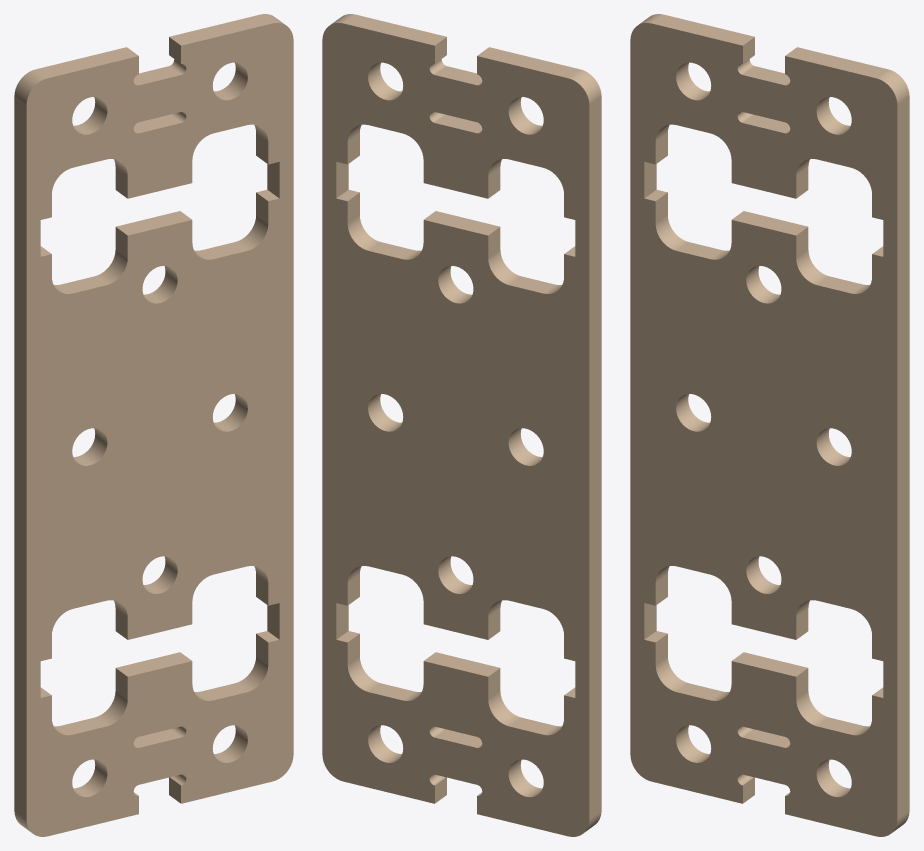
The model's file is fret wagon v17_fret wagon v17_wood version_1_middle sheet_1_Body1.obj.
3 renders of one model, left to right at view 1: azimuth 30°, elevation 25°; view 2: azimuth 150°, elevation 25°; view 3: azimuth 330°, elevation 25°, orthographic.
Visible parts, largest first — view 1: Body1; view 2: Body1; view 3: Body1.
Part boxes in pixels (x1=…): Body1: x1=14, y1=14, x2=293, y2=836; Body1: x1=322, y1=14, x2=601, y2=836; Body1: x1=630, y1=14, x2=909, y2=836.
Size of the model in its own units: 38 by 103 by 3.
